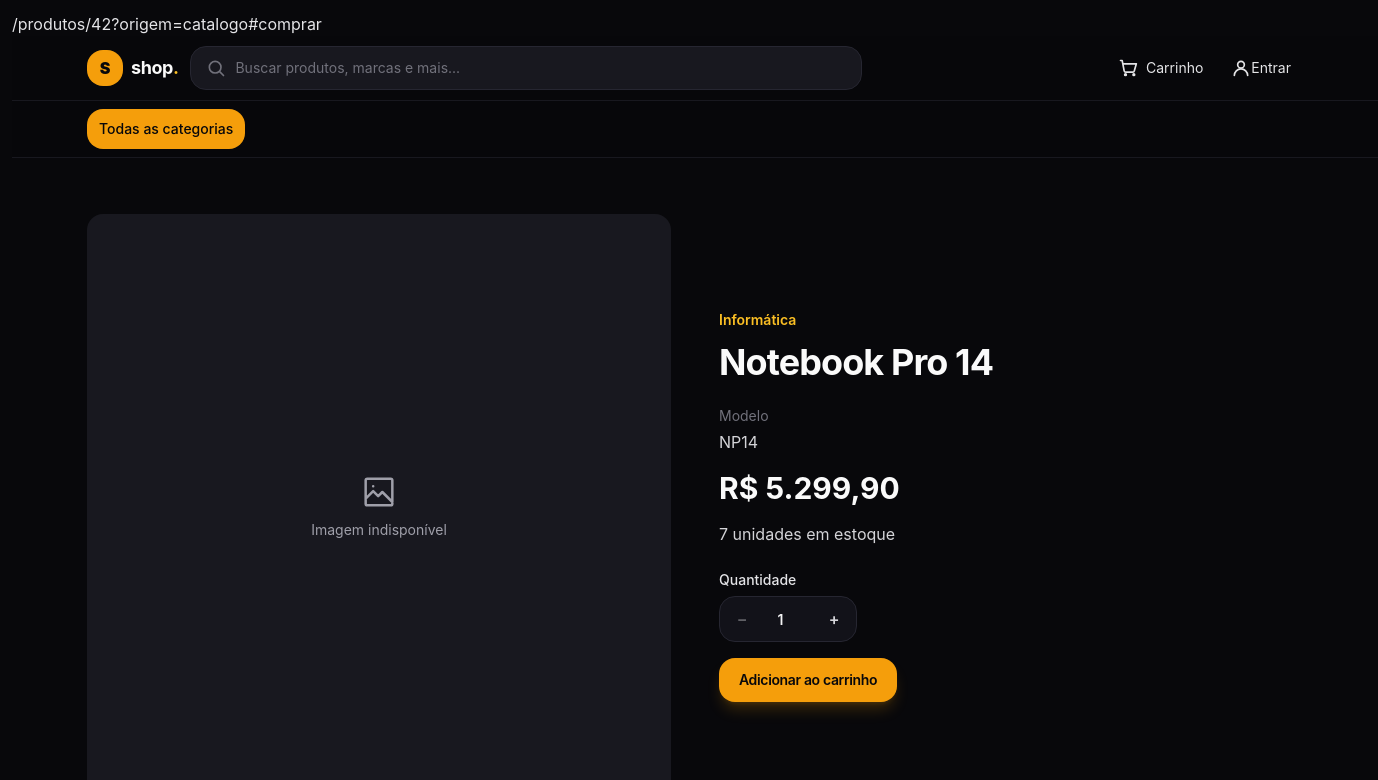
App › returns from the real login flow to the exact product URL without adding automatically
This screenshot has width=1378, height=780.
Click the button "Adicionar ao carrinho".
click(808, 680)  # box x1=719 y1=658 x2=897 y2=702
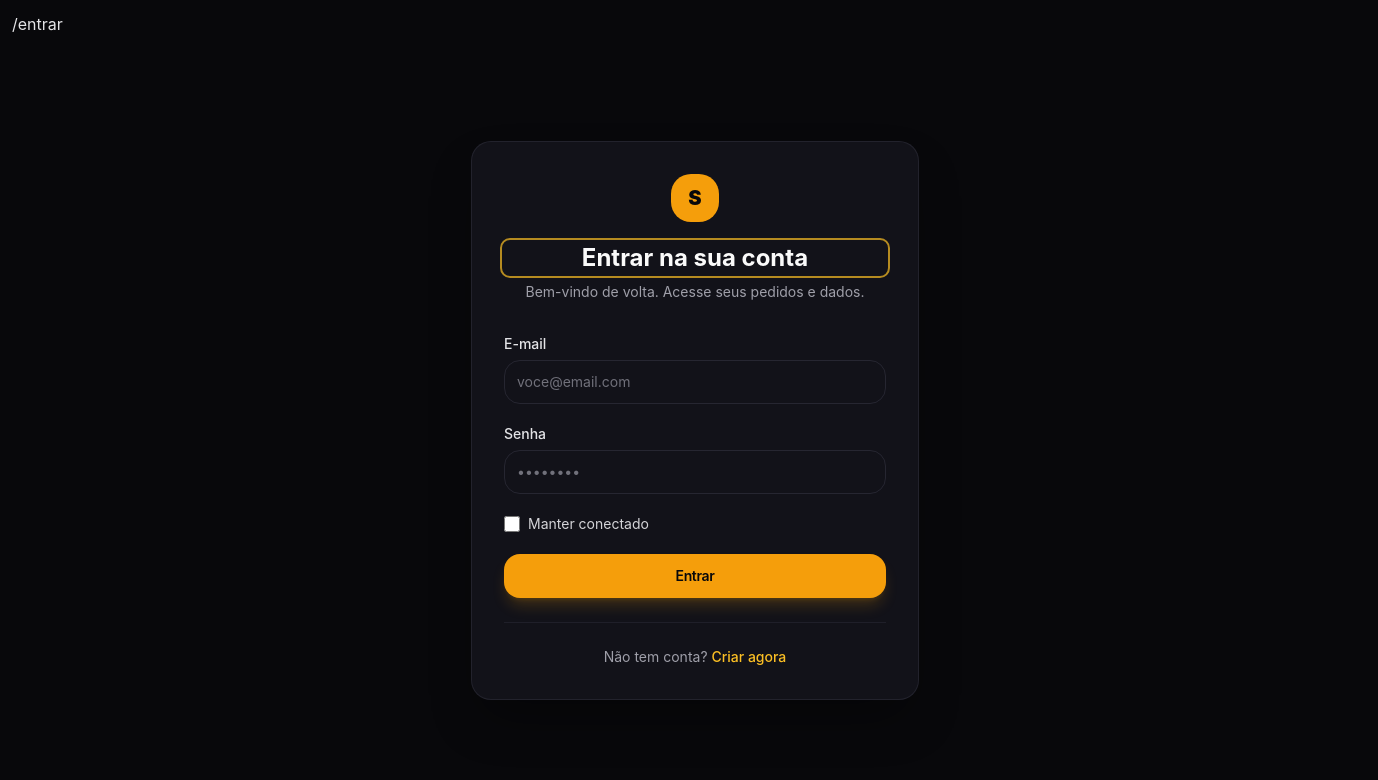
Result: the heading "Entrar na sua conta" is shown at x1=582 y1=242 x2=808 y2=272
Type "cliente@exemplo.com" into the field labelled "E-mail".
click(695, 382); type("cliente@exemplo.com")  # box x1=504 y1=360 x2=886 y2=404
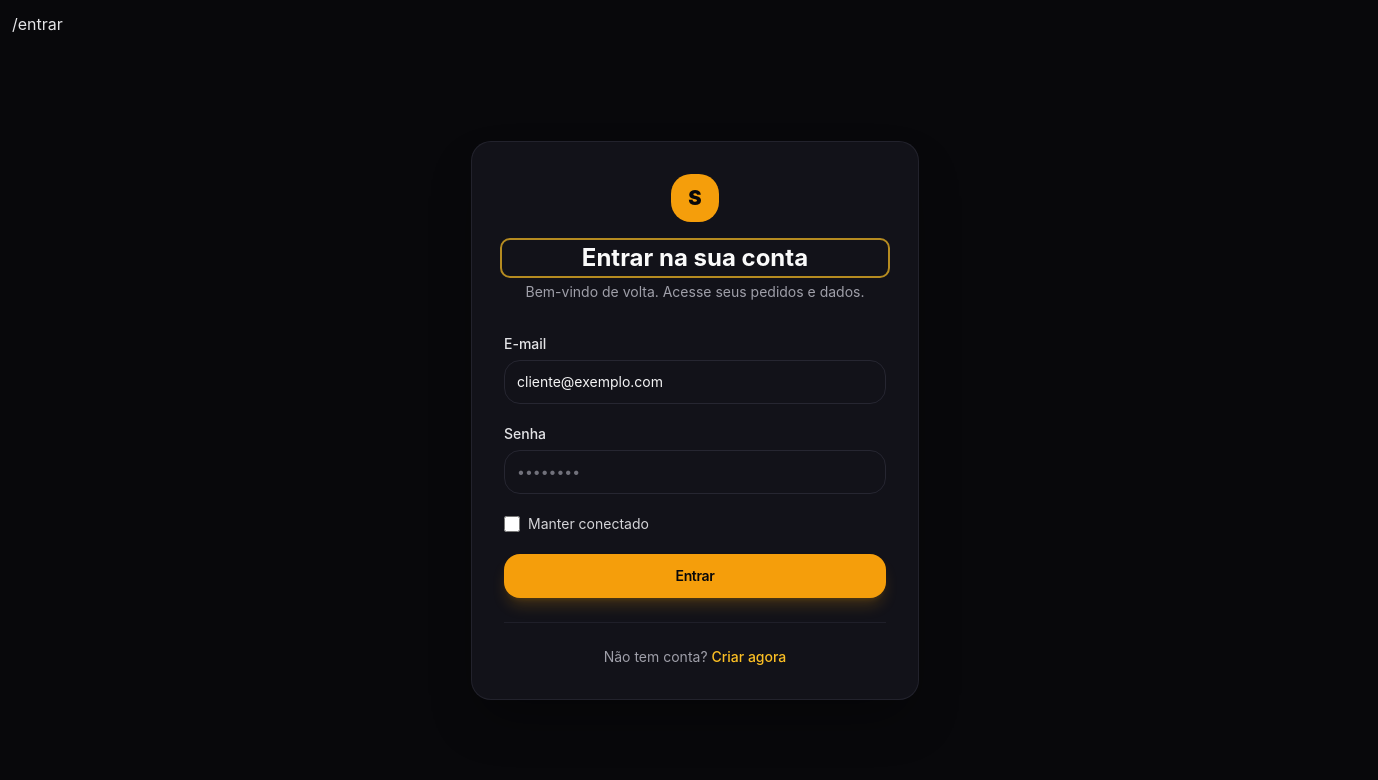
Type "senha-secreta" into the password field labelled "Senha".
click(695, 472); type("senha-secreta")  # box x1=504 y1=450 x2=886 y2=494
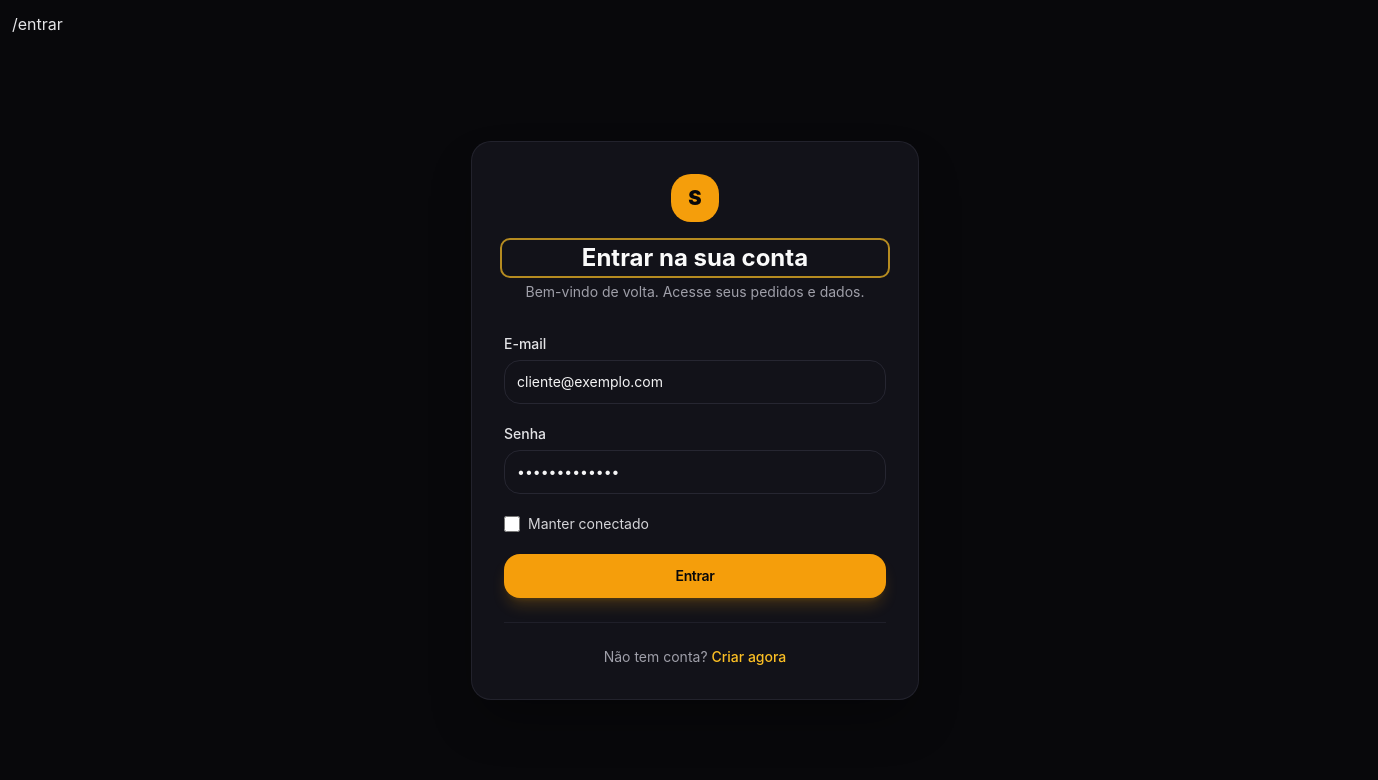
Click the button "Entrar".
click(695, 576)  # box x1=504 y1=554 x2=886 y2=598
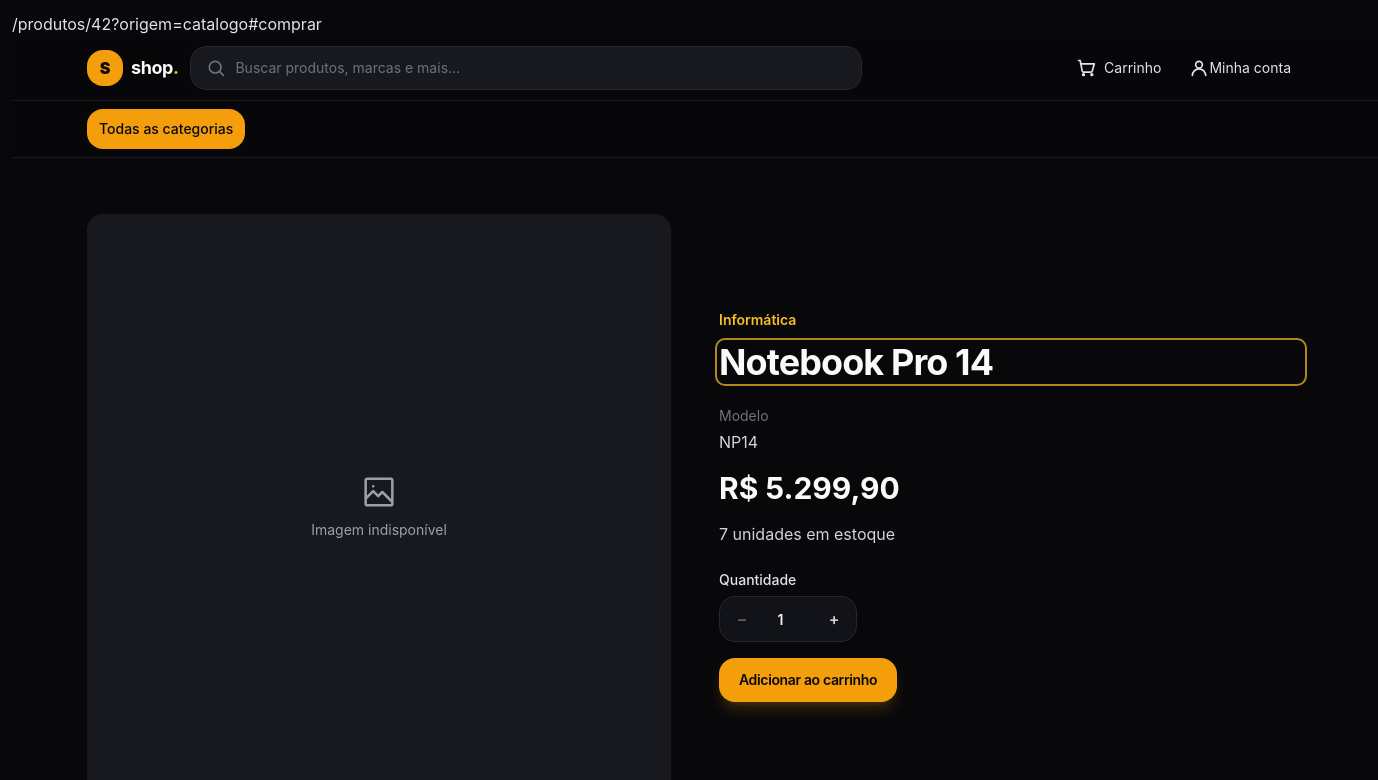
Result: the heading "Notebook Pro 14" is shown at x1=719 y1=340 x2=993 y2=384
Result: the text with test id "current-location" reads "/produtos/42?origem=catalogo#comprar" at x1=12 y1=14 x2=322 y2=34
